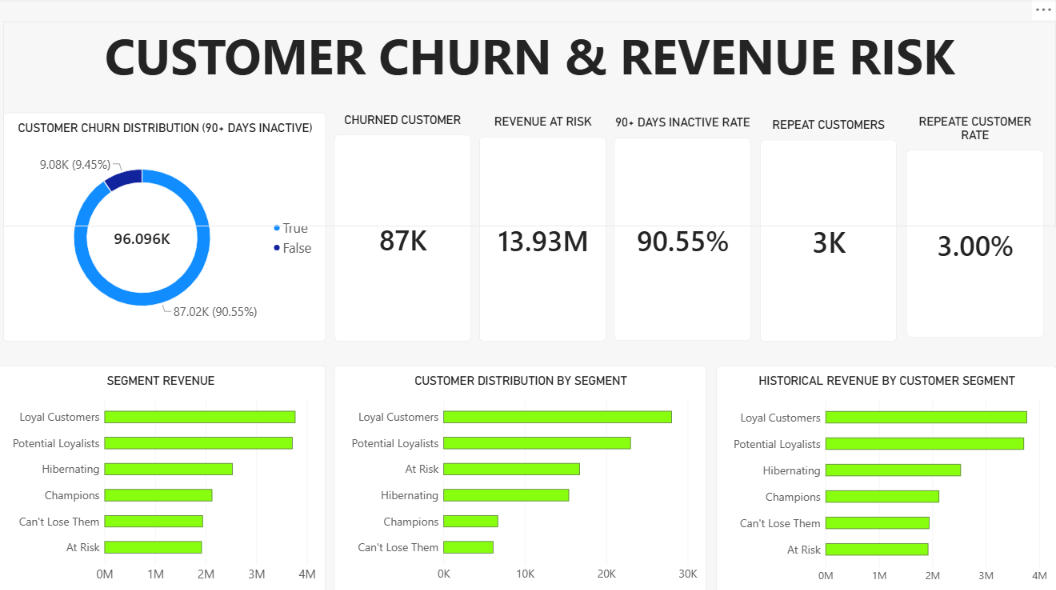

This screenshot's page, from the dashboard's own definition file:
{"tool":"powerbi","page":{"name":"Page 2","canvas":[1920,1080],"ordinal":1},"visuals":[{"type":"clusteredBarChart","title":"SEGMENT REVENUE","fields":{"Category":["rfm_customer_segments.segment"],"Y":["ecommerce_analytics customers.Segment Revenue"]},"box":[0,665.6,597.6,414.2],"z":0},{"type":"donutChart","title":"CUSTOMER CHURN DISTRIBUTION (90+ DAYS INACTIVE)","fields":{"Category":["rfm_customer_segments.churned"],"Y":["Count(rfm_customer_segments.customer_unique_id)"]},"box":[14.4,208.1,584,414],"z":1000},{"type":"cardVisual","title":"REVENUE AT RISK","fields":{"Data":["ecommerce_analytics order_payments.Revenue at Risk"]},"box":[875.7,212.2,230.8,410],"z":2000},{"type":"cardVisual","title":"CHURNED CUSTOMER","fields":{"Data":["ecommerce_analytics customers.Churned Customers"]},"box":[614,208.1,247.3,414.2],"z":3000},{"type":"cardVisual","title":"90+ DAYS INACTIVE RATE","fields":{"Data":["ecommerce_analytics customers.Churn Rate"]},"box":[1120.9,214.3,247.3,408],"z":4000},{"type":"cardVisual","title":"REPEAT CUSTOMERS","fields":{"Data":["ecommerce_analytics order_payments.Repeat Customers"]},"box":[1384.7,216.4,247.3,405.9],"z":4001},{"type":"cardVisual","title":"REPEATE CUSTOMER RATE","fields":{"Data":["ecommerce_analytics order_payments.Repeat Customer Rate"]},"box":[1648.4,212.2,249.3,403.9],"z":4002},{"type":"clusteredBarChart","title":"CUSTOMER DISTRIBUTION BY SEGMENT","fields":{"Category":["rfm_customer_segments.segment"],"Y":["CountNonNull(rfm_customer_segments.customer_unique_id)"]},"box":[614,665.6,673.8,412.1],"z":4003},{"type":"clusteredBarChart","title":"HISTORICAL REVENUE BY CUSTOMER SEGMENT","fields":{"Category":["rfm_customer_segments.segment"],"Y":["Sum(rfm_customer_segments.monetary)"]},"box":[1304.3,665.6,616.1,414.2],"z":4004},{"type":"textbox","box":[14.4,43.3,1906,370.9],"z":4005}]}

Visuals, with their boxes in screenshot pixels (x1, y1, x2, y2), scaled from the page's 1920x1080 canvas onto the 1056x590 screenshot:
"SEGMENT REVENUE" clusteredBarChart: region(0, 364, 329, 589)
"CUSTOMER CHURN DISTRIBUTION (90+ DAYS INACTIVE)" donutChart: region(8, 114, 329, 340)
"REVENUE AT RISK" cardVisual: region(482, 116, 609, 340)
"CHURNED CUSTOMER" cardVisual: region(338, 114, 474, 340)
"90+ DAYS INACTIVE RATE" cardVisual: region(616, 117, 753, 340)
"REPEAT CUSTOMERS" cardVisual: region(762, 118, 898, 340)
"REPEATE CUSTOMER RATE" cardVisual: region(907, 116, 1044, 337)
"CUSTOMER DISTRIBUTION BY SEGMENT" clusteredBarChart: region(338, 364, 708, 589)
"HISTORICAL REVENUE BY CUSTOMER SEGMENT" clusteredBarChart: region(717, 364, 1055, 589)
textbox: region(8, 24, 1055, 226)
